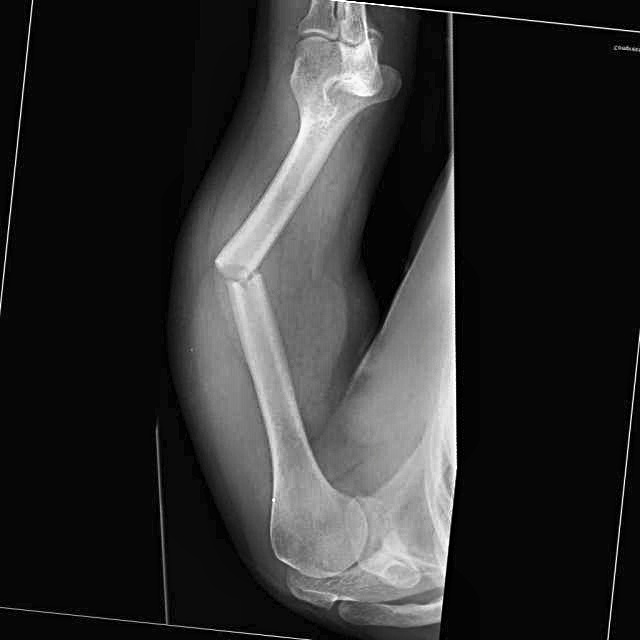Transverse: (201, 231, 274, 310)
